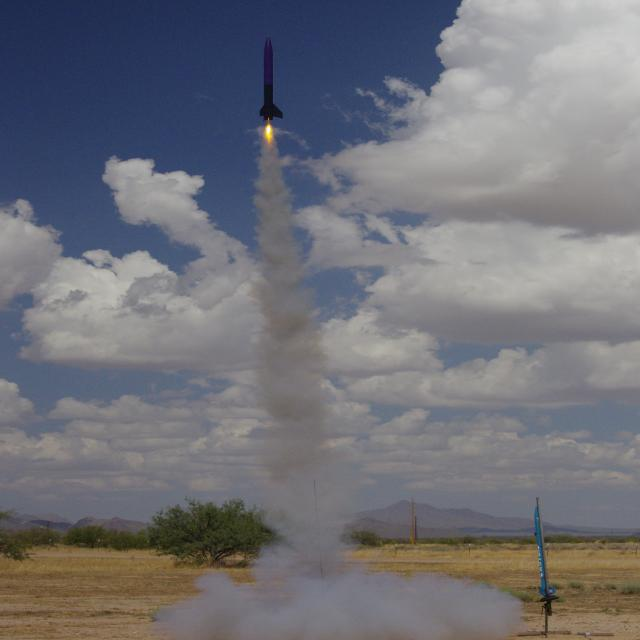Rocket: (260, 35, 284, 121), (535, 505, 556, 597)
